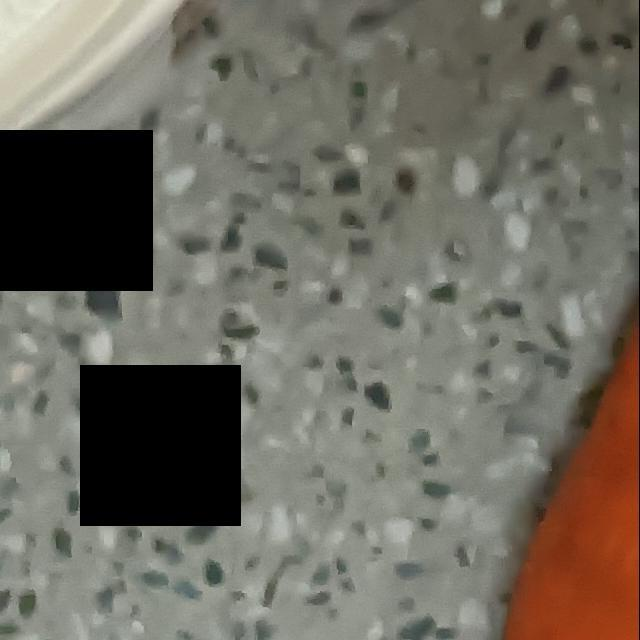carrot: (487, 1, 640, 640)
